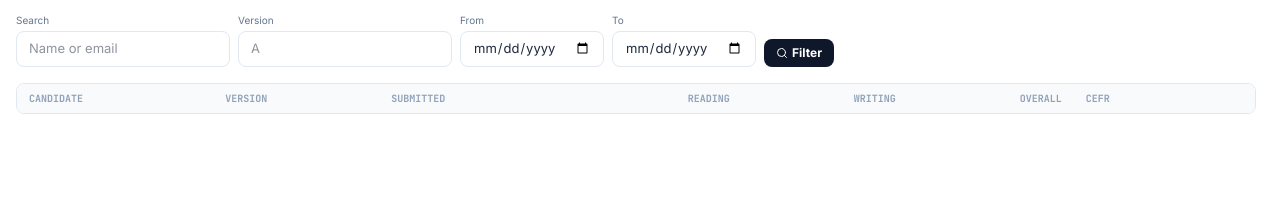
ResultsTab › ignores an older results response after the filters change
The image size is (1273, 215).
Type "ana" into the field named "Search by name or email" at (123, 49), box [16,31,230,67]
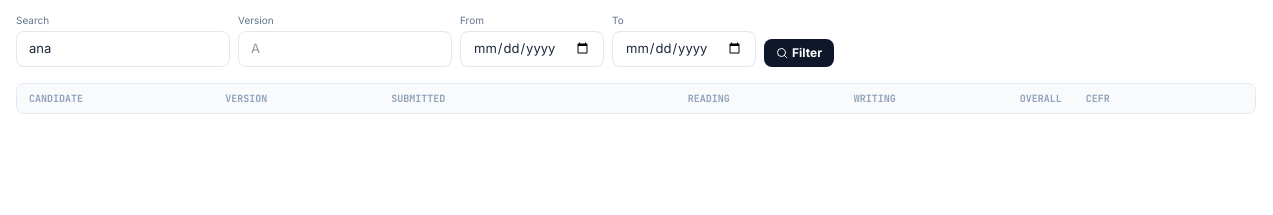
Click the button "Filter" at (799, 53), box [764,39,834,67]
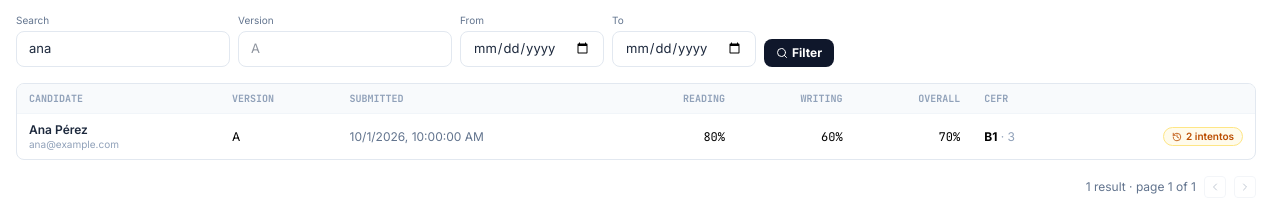
Result: the text "ana@example.com" is shown at [29,138,119,150]
